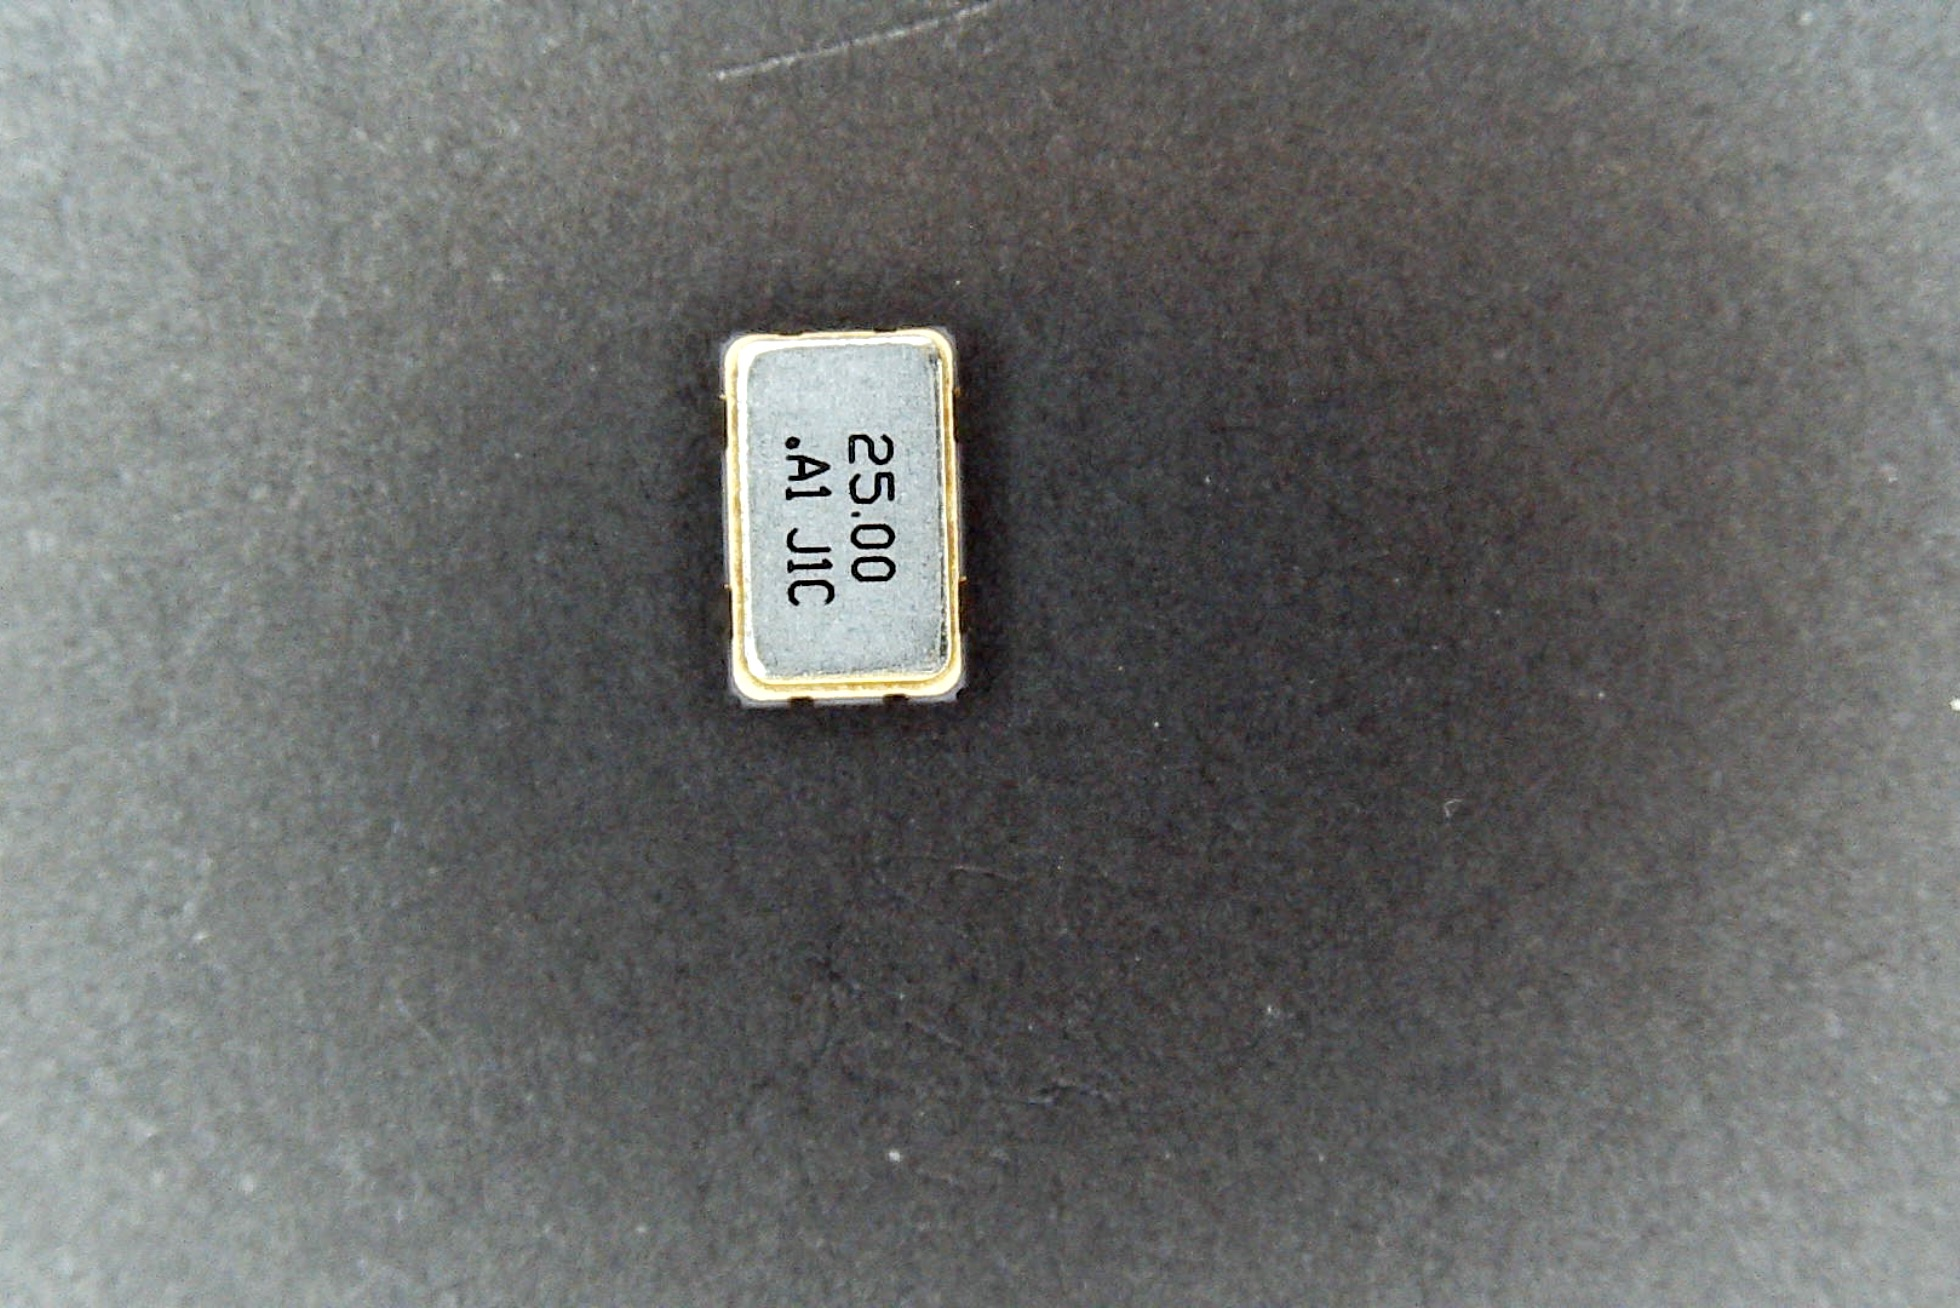bbox: (718, 326, 972, 714)
